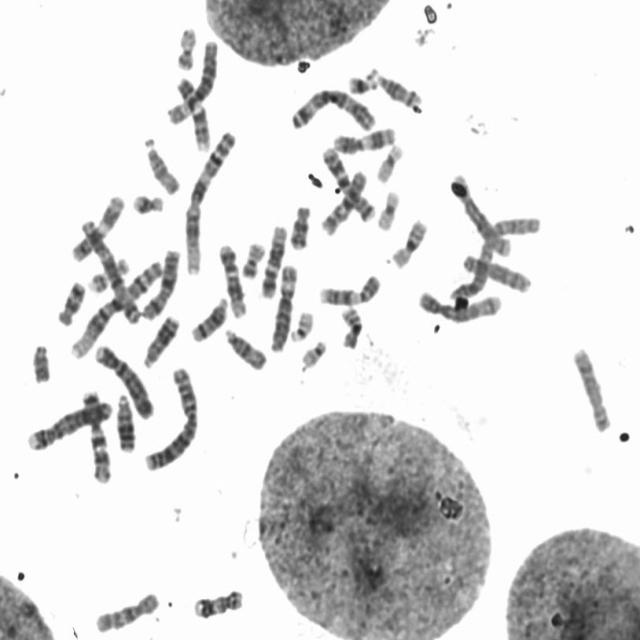A1: (67, 256, 166, 360), (180, 126, 239, 277)
A2: (446, 211, 543, 303), (140, 361, 201, 473)
A3: (76, 214, 145, 326), (288, 83, 380, 133)
B4: (92, 338, 156, 421), (24, 397, 113, 452)
B5: (447, 168, 515, 258), (414, 286, 503, 324)
C10: (317, 164, 369, 237), (91, 586, 162, 634)
C11: (68, 189, 128, 263), (330, 121, 398, 155)
C12: (215, 239, 248, 319), (257, 220, 289, 300)
C6: (163, 33, 221, 126), (266, 258, 300, 354)
C7: (318, 142, 378, 223), (78, 384, 115, 484)
C8: (569, 341, 614, 434), (458, 248, 535, 295)
C9: (174, 73, 214, 152), (315, 269, 384, 308)
D13: (140, 310, 182, 369), (112, 389, 137, 453)
D14: (366, 63, 424, 111), (187, 291, 230, 343)
D15: (142, 136, 182, 196), (221, 323, 268, 372)
E16: (388, 212, 429, 270), (337, 301, 364, 350)
E17: (190, 584, 246, 620), (85, 252, 132, 294)
E18: (54, 276, 88, 328), (286, 200, 313, 251)
F19: (372, 138, 406, 185), (372, 185, 402, 232)
F20: (173, 21, 199, 72), (238, 236, 268, 280)
G21: (128, 188, 166, 216), (344, 67, 379, 96)
G22: (297, 335, 329, 369), (286, 306, 315, 343)
X: (140, 244, 182, 321)
Y: (28, 339, 54, 384)
